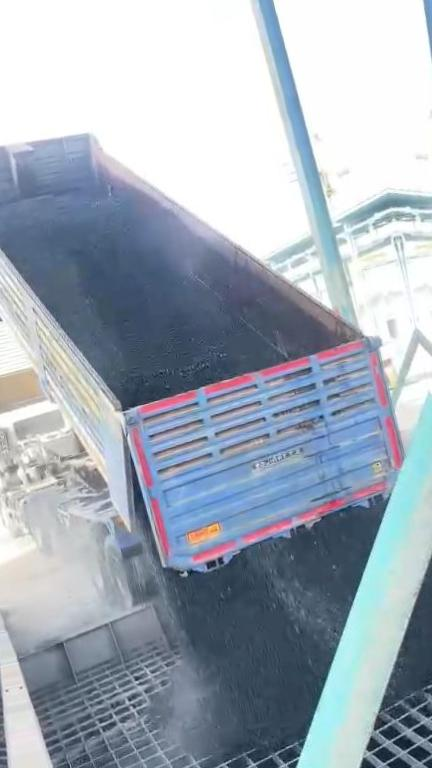gravel: (0, 195, 283, 406), (157, 506, 381, 753), (388, 566, 432, 701)
